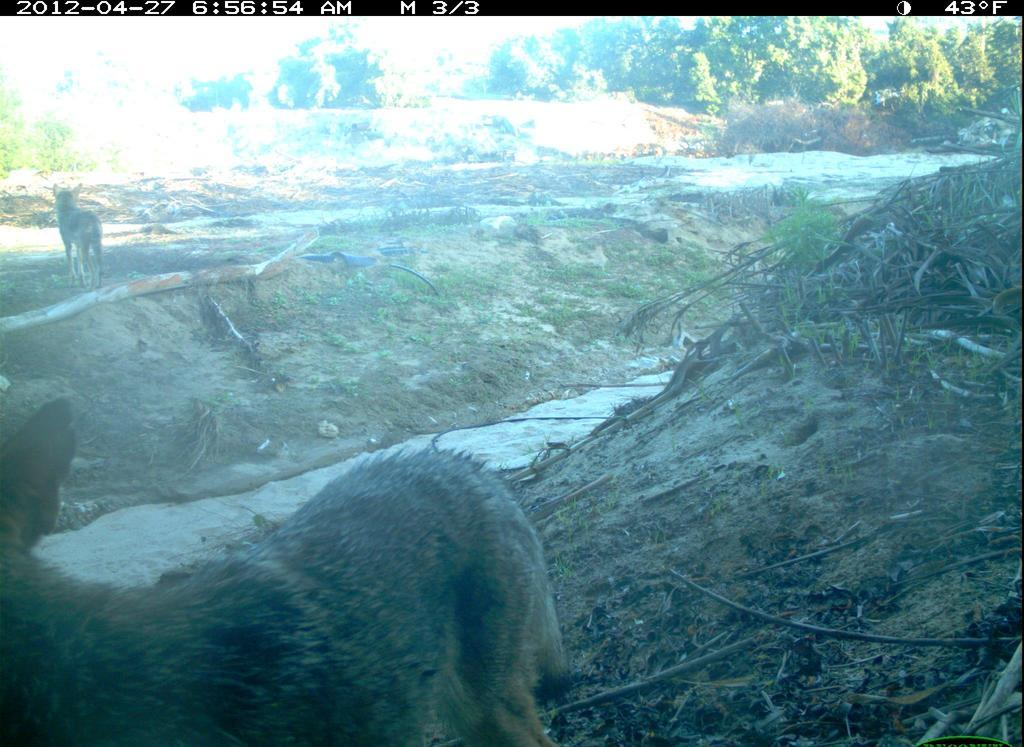coyote: (1, 388, 596, 747), (45, 182, 114, 296)
